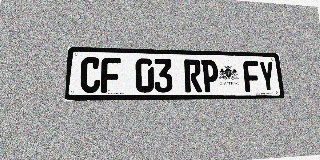0: (135, 58, 154, 93)
3: (154, 59, 172, 92)
C: (80, 57, 101, 93)
F: (101, 57, 120, 93), (243, 61, 261, 92)
P: (201, 60, 219, 92)
R: (184, 59, 202, 92)
Y: (258, 61, 276, 92)
